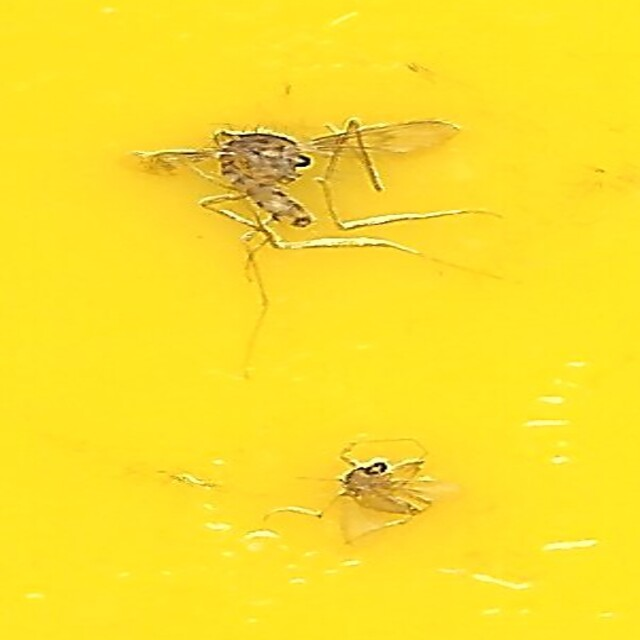Nematocera: (213, 124, 319, 234), (336, 458, 427, 516)
